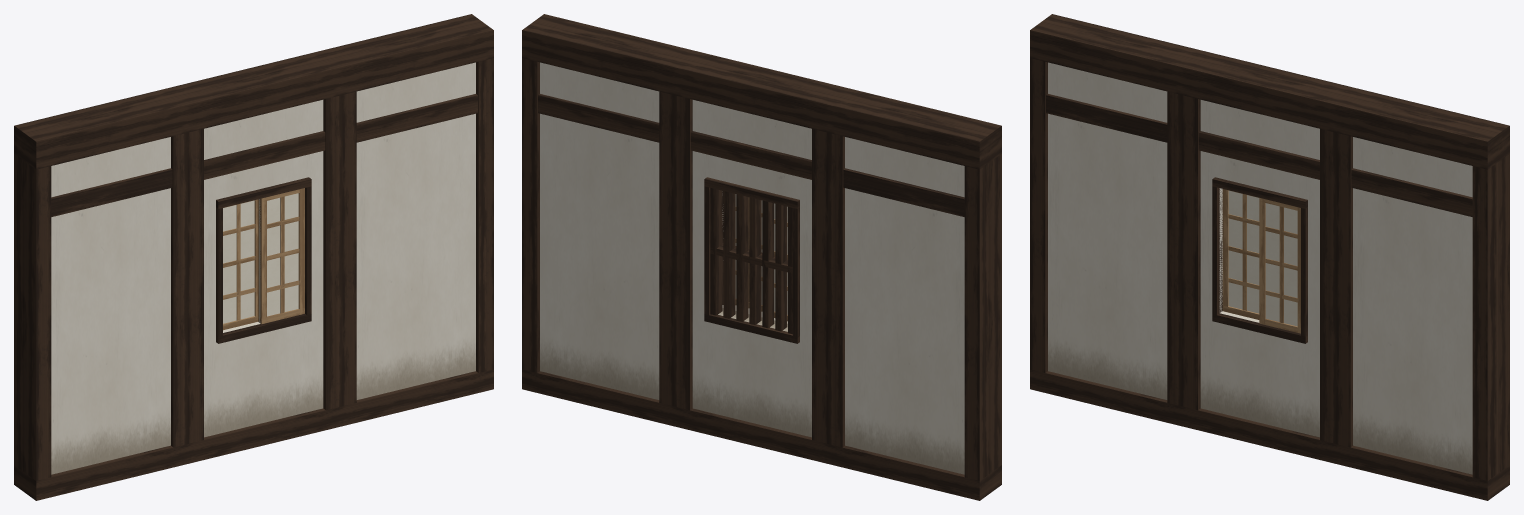
The model's file is HO_Wall_Plaster_Lattice_12.fbx.
3 renders of one model, left to right at view 1: azimuth 30°, elevation 25°; view 2: azimuth 150°, elevation 25°; view 3: azimuth 330°, elevation 25°, orthographic.
Parts seen in each view (by area): view 1: HO_Wall_Plaster_Lattice_12__Plaster_White, HO_Wall_Plaster_Lattice_12__Timber_Dark, HO_Wall_Plaster_Lattice_12__Shoji_Paper, HO_Wall_Plaster_Lattice_12__Timber_Light; view 2: HO_Wall_Plaster_Lattice_12__Timber_Dark, HO_Wall_Plaster_Lattice_12__Plaster_White, HO_Wall_Plaster_Lattice_12__Shoji_Paper; view 3: HO_Wall_Plaster_Lattice_12__Plaster_White, HO_Wall_Plaster_Lattice_12__Timber_Dark, HO_Wall_Plaster_Lattice_12__Shoji_Paper, HO_Wall_Plaster_Lattice_12__Timber_Light.
Boxes of the visible parts, x1=… form: HO_Wall_Plaster_Lattice_12__Plaster_White: x1=51, y1=62, x2=475, y2=474; HO_Wall_Plaster_Lattice_12__Timber_Dark: x1=14, y1=14, x2=493, y2=500; HO_Wall_Plaster_Lattice_12__Shoji_Paper: x1=223, y1=193, x2=298, y2=323; HO_Wall_Plaster_Lattice_12__Timber_Light: x1=223, y1=188, x2=304, y2=330; HO_Wall_Plaster_Lattice_12__Timber_Dark: x1=522, y1=14, x2=1001, y2=500; HO_Wall_Plaster_Lattice_12__Plaster_White: x1=540, y1=62, x2=964, y2=474; HO_Wall_Plaster_Lattice_12__Shoji_Paper: x1=735, y1=194, x2=787, y2=314; HO_Wall_Plaster_Lattice_12__Plaster_White: x1=1048, y1=62, x2=1472, y2=474; HO_Wall_Plaster_Lattice_12__Timber_Dark: x1=1030, y1=14, x2=1509, y2=500; HO_Wall_Plaster_Lattice_12__Shoji_Paper: x1=1228, y1=190, x2=1297, y2=326; HO_Wall_Plaster_Lattice_12__Timber_Light: x1=1222, y1=189, x2=1300, y2=333.
Bounding box in the file's own units: 12 × 9 × 1.
